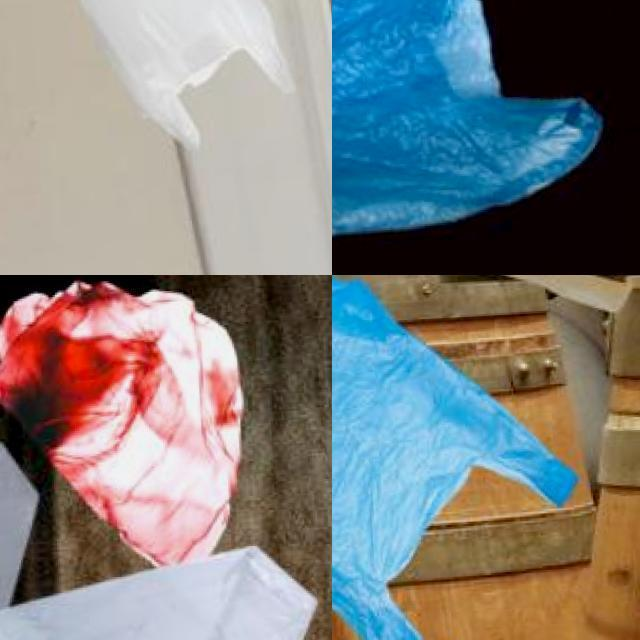waste: (332, 275, 584, 640), (332, 0, 606, 261), (63, 0, 304, 145), (0, 542, 319, 640)
